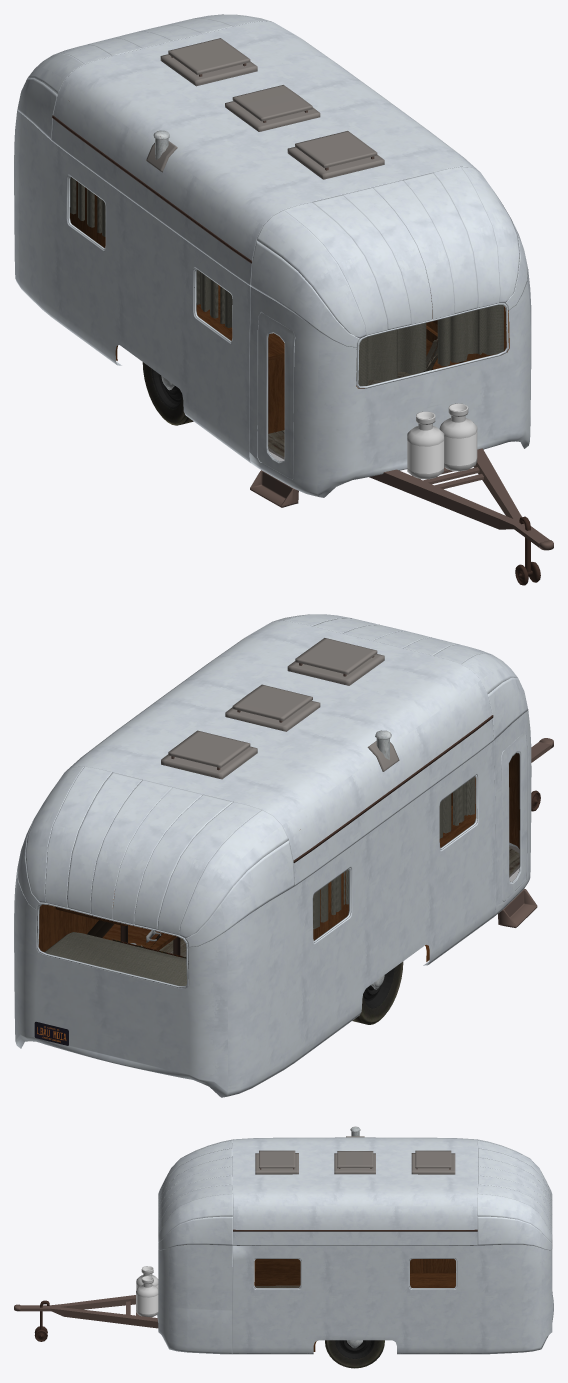
File: p_caravan_50s.glb
3 views of the same model, one above another, from view 1: azimuth 30°, elevation 25°; view 2: azimuth 150°, elevation 25°; view 3: azimuth 270°, elevation 25° (orthographic). The views are drawn at different scales.
Visible parts, largest first — view 1: body_0, door_4, wheel1_2, stand_3; view 2: body_0, door_4, wheel1_2; view 3: body_0, wheel2_1.
Part boxes in pixels (box(x1,y1,x2,y2)): body_0: box(14, 14, 553, 550); door_4: box(257, 312, 295, 479); wheel1_2: box(142, 362, 193, 425); stand_3: box(515, 516, 540, 585); body_0: box(14, 614, 553, 1097); door_4: box(501, 732, 527, 901); wheel1_2: box(352, 961, 403, 1024); body_0: box(14, 1126, 553, 1354); wheel2_1: box(325, 1340, 384, 1368).
Size of the model in its own units: 2.33 by 2.56 by 6.9.
21 materials, 12 textured.
